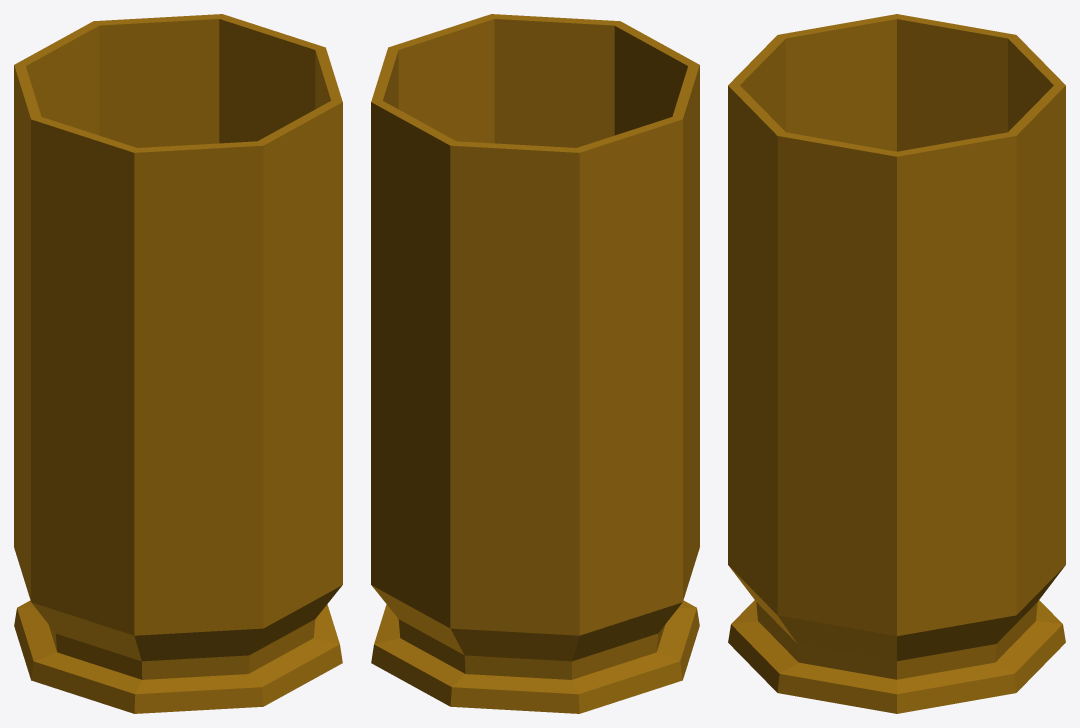
File: small_caliber_bullet.fbx
3 renders of one model, left to right at view 1: azimuth 30°, elevation 25°; view 2: azimuth 150°, elevation 25°; view 3: azimuth 270°, elevation 25°, orthographic.
Visible parts, largest first — view 1: casing 45 ACP; view 2: casing 45 ACP; view 3: casing 45 ACP.
Boxes of the visible parts, box(x1,y1,x2,y2) form: casing 45 ACP: box(14, 14, 342, 713); casing 45 ACP: box(371, 14, 699, 713); casing 45 ACP: box(728, 14, 1065, 713).
Bounding box in the file's own units: 3.04 × 5.52 × 3.04.
